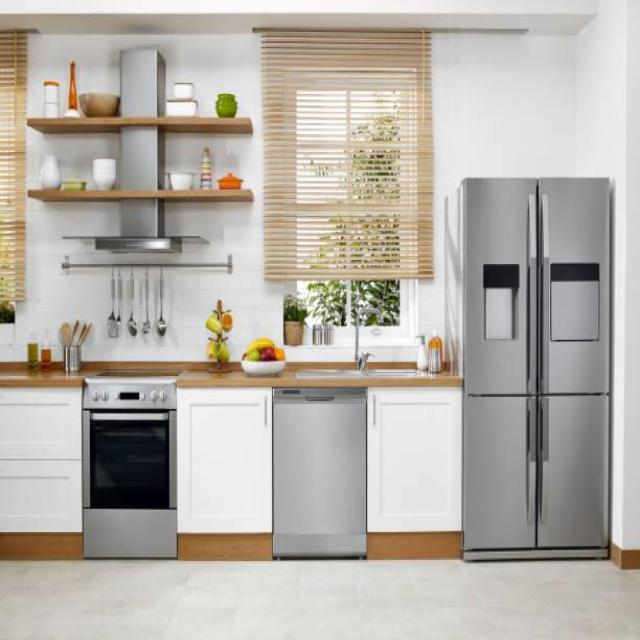dishwasher: (254, 370, 384, 596)
